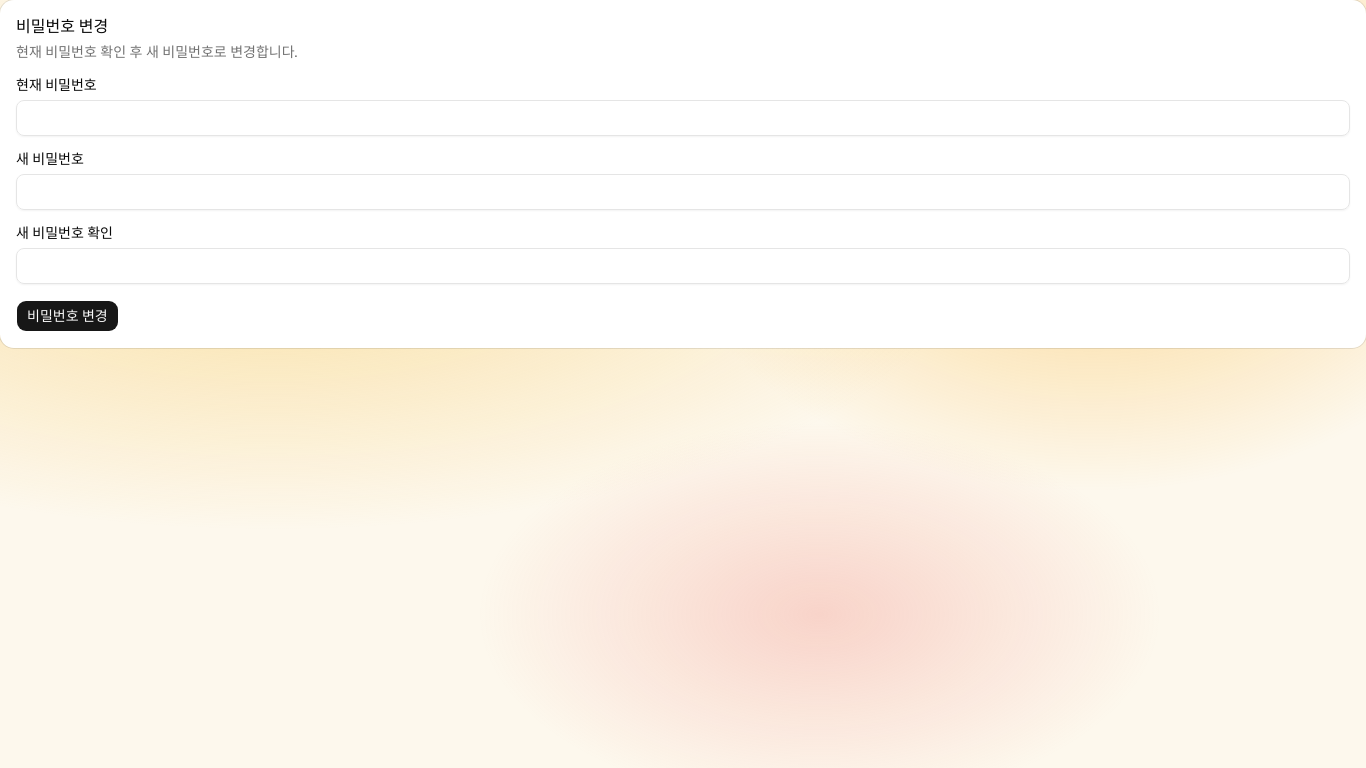
PasswordChangeForm › 새 비밀번호 확인이 다르면 제출하지 않고 에러를 보여준다
This screenshot has width=1366, height=768.
Type "OldPass123!" into the password field labelled "현재 비밀번호" at (683, 118), box [16, 100, 1350, 136]
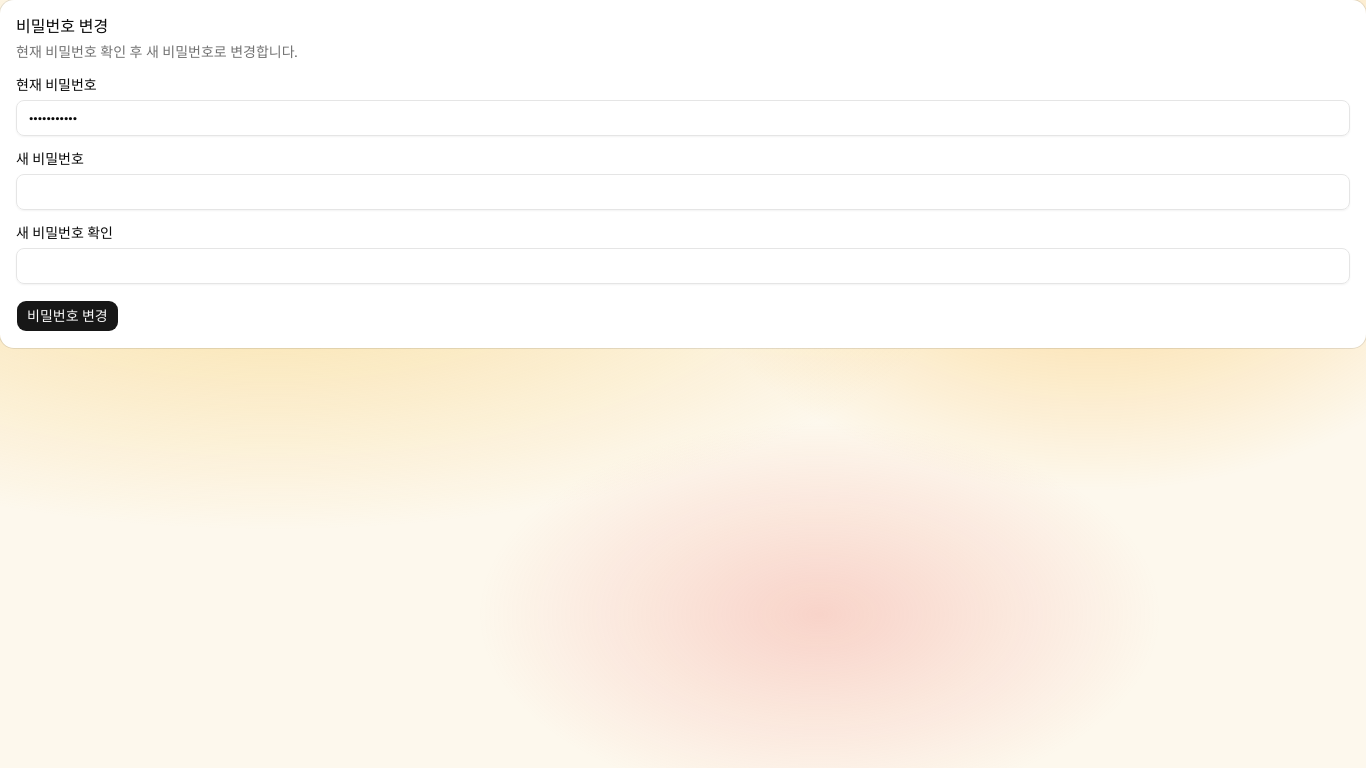
Type "NewPass456!" into the password field labelled "새 비밀번호" at (683, 192), box [16, 174, 1350, 210]
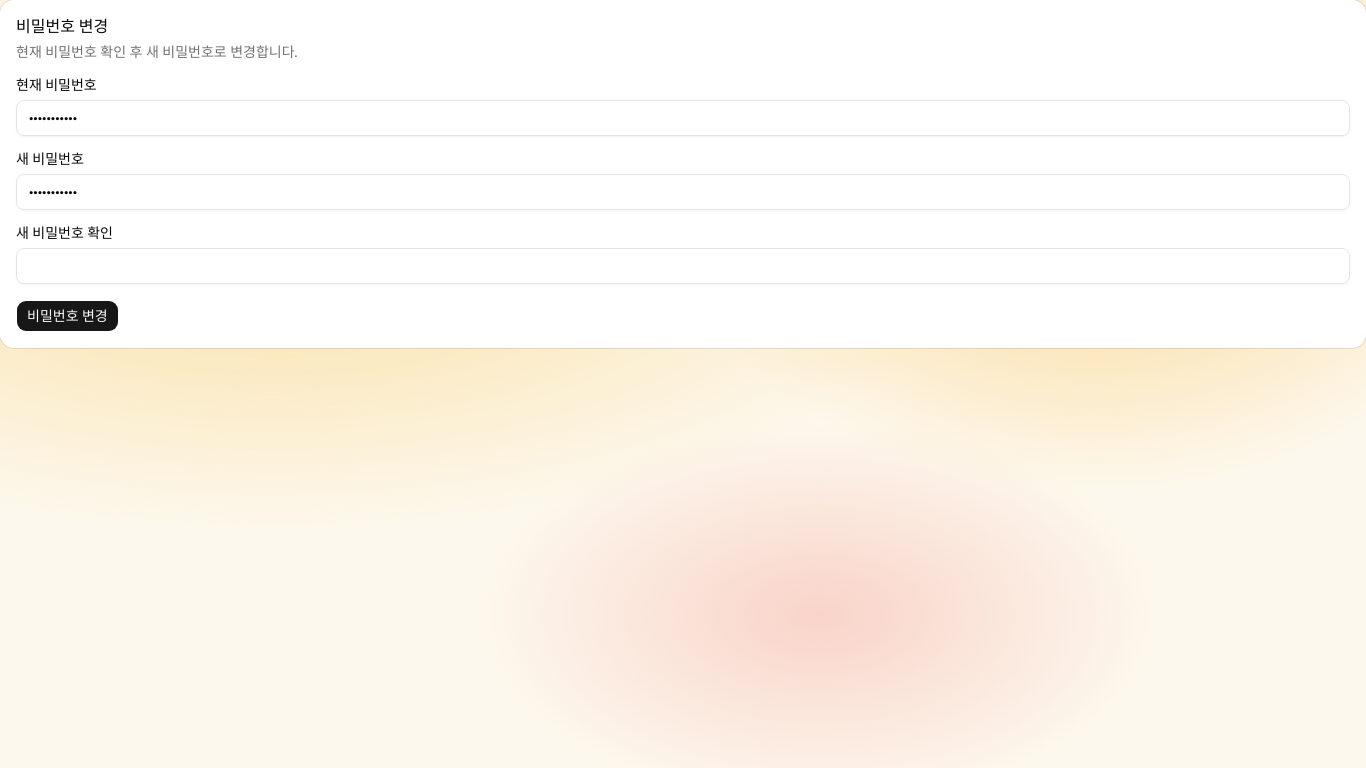
Type "Different789!" into the password field labelled "새 비밀번호 확인" at (683, 266), box [16, 248, 1350, 284]
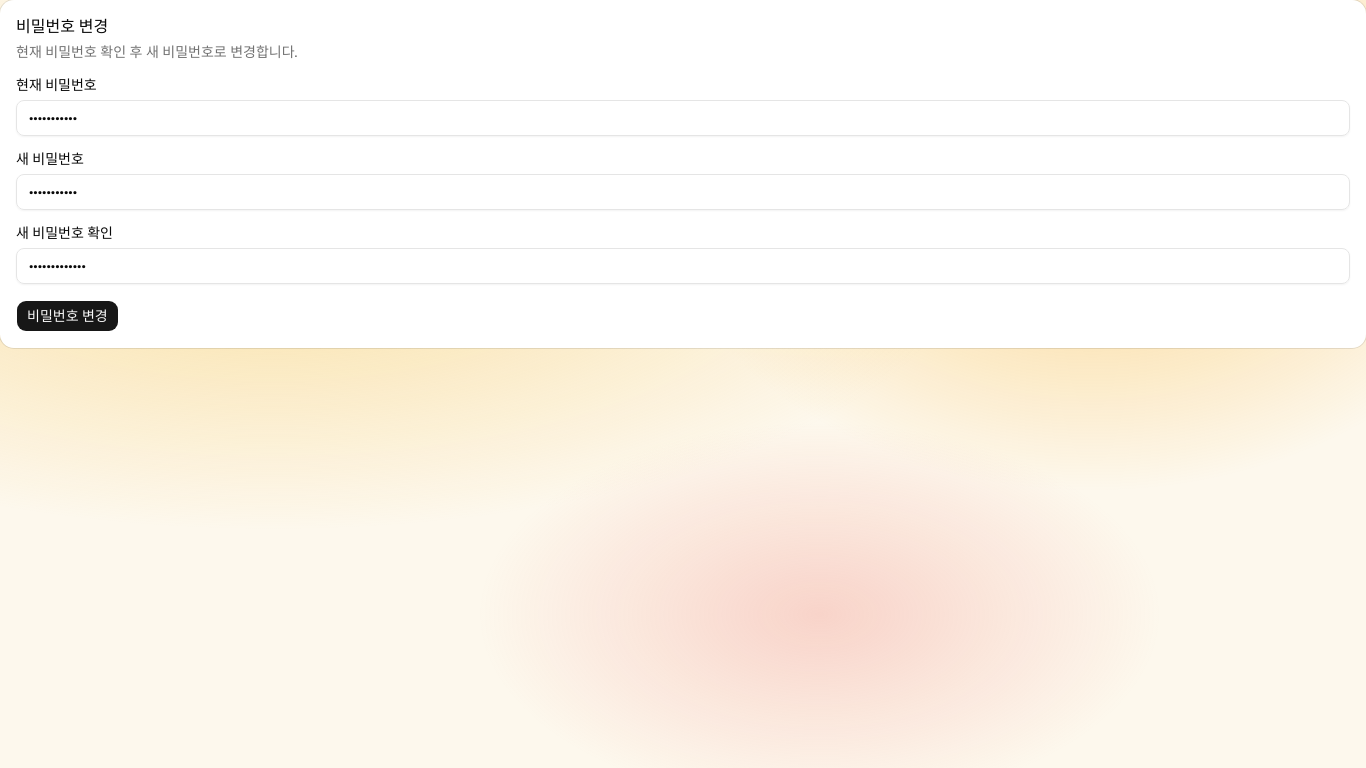
Click the button "비밀번호 변경" at (67, 316), box [16, 300, 119, 332]
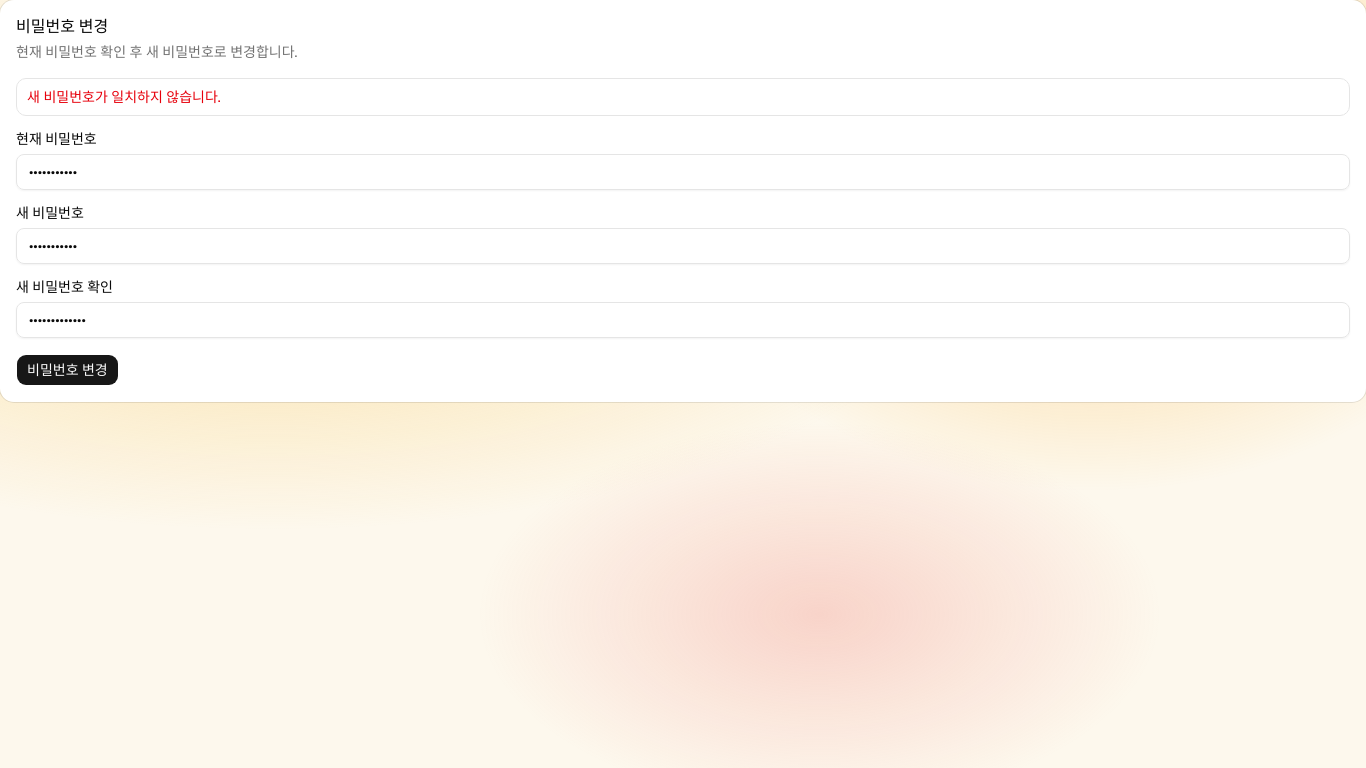
expect the text "새 비밀번호가 일치하지 않습니다." is shown: met, box [16, 78, 1350, 116]
